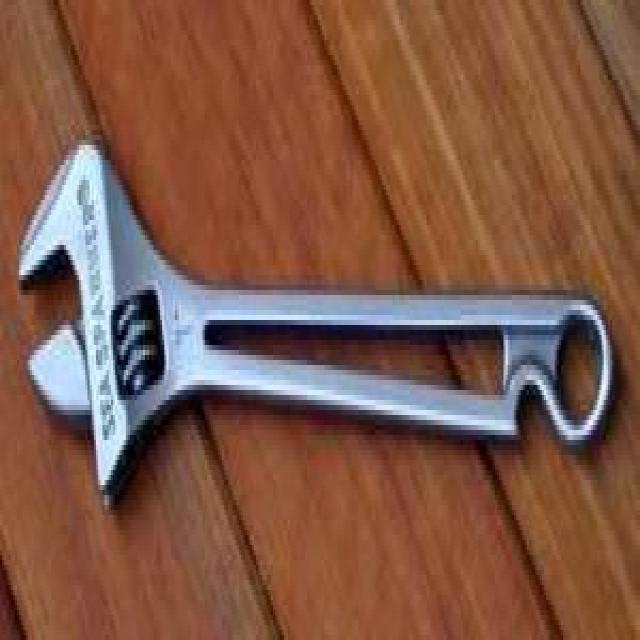wrench: (0, 113, 384, 487)
